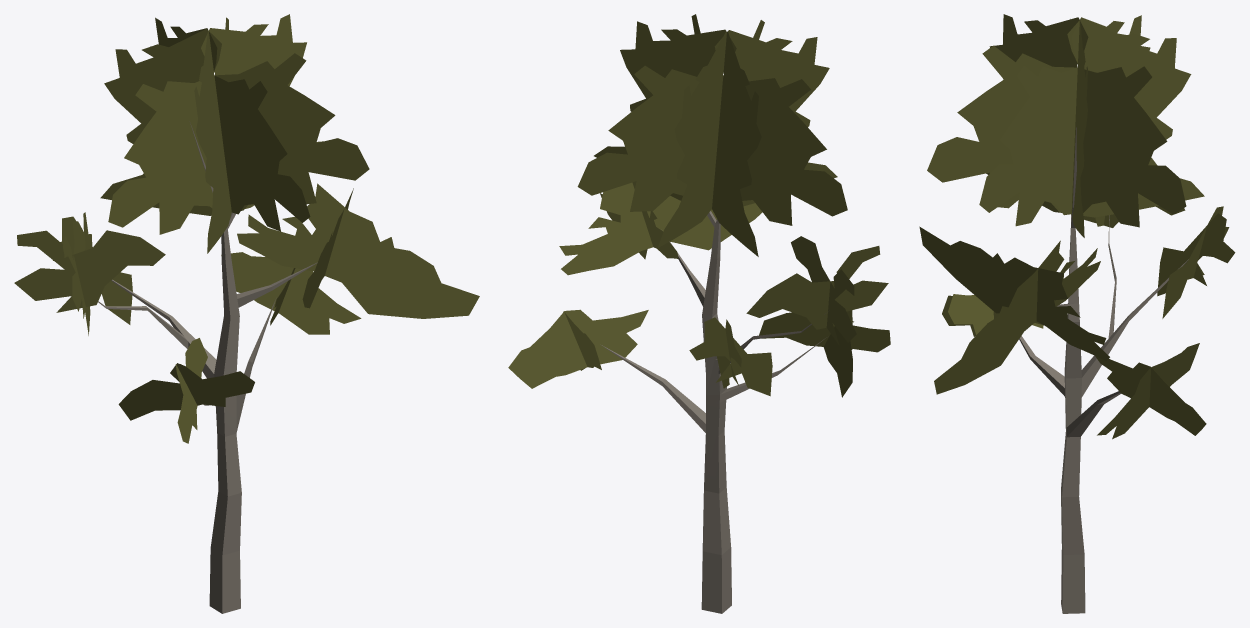
File: Tree9.fbx
The picture shows the model from 3 angles, left to right: view 1: azimuth 30°, elevation 25°; view 2: azimuth 150°, elevation 25°; view 3: azimuth 270°, elevation 25°; orthographic projection.
Visible parts, largest first — view 1: Flat_half_tree.009; view 2: Flat_half_tree.009; view 3: Flat_half_tree.009.
Boxes of the visible parts, x1=… form: Flat_half_tree.009: x1=14, y1=14, x2=479, y2=613; Flat_half_tree.009: x1=508, y1=14, x2=890, y2=613; Flat_half_tree.009: x1=919, y1=14, x2=1235, y2=613.
Bounding box in the file's own units: 2.33 × 3.58 × 1.75.
